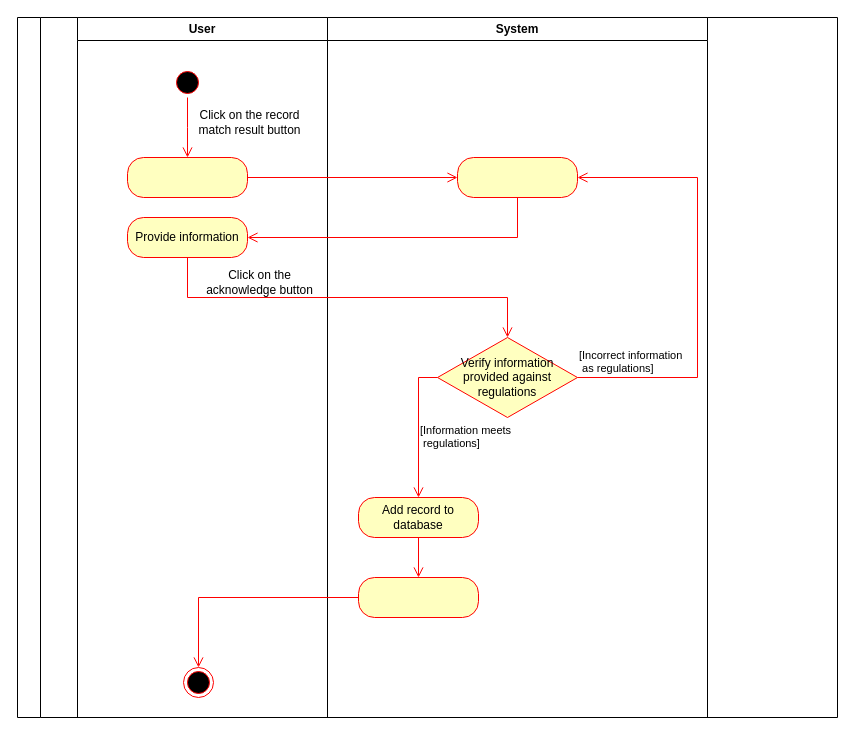
The diagram is 855 pixels wide and 735 high, and some of its shapes have lost their labels. Here are the shapes that lost their labels. From the top down, the centre of each, then its label:
At (187,177): "Call the record match result function".
At (517,177): "Request information provided".
At (418,597): "Schedule match successful notification".
